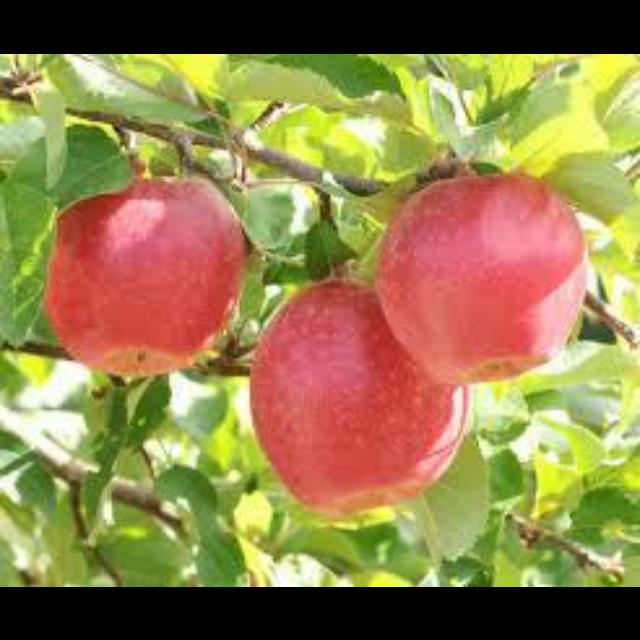apple: (250, 279, 468, 513), (375, 173, 585, 381), (44, 178, 245, 373)
